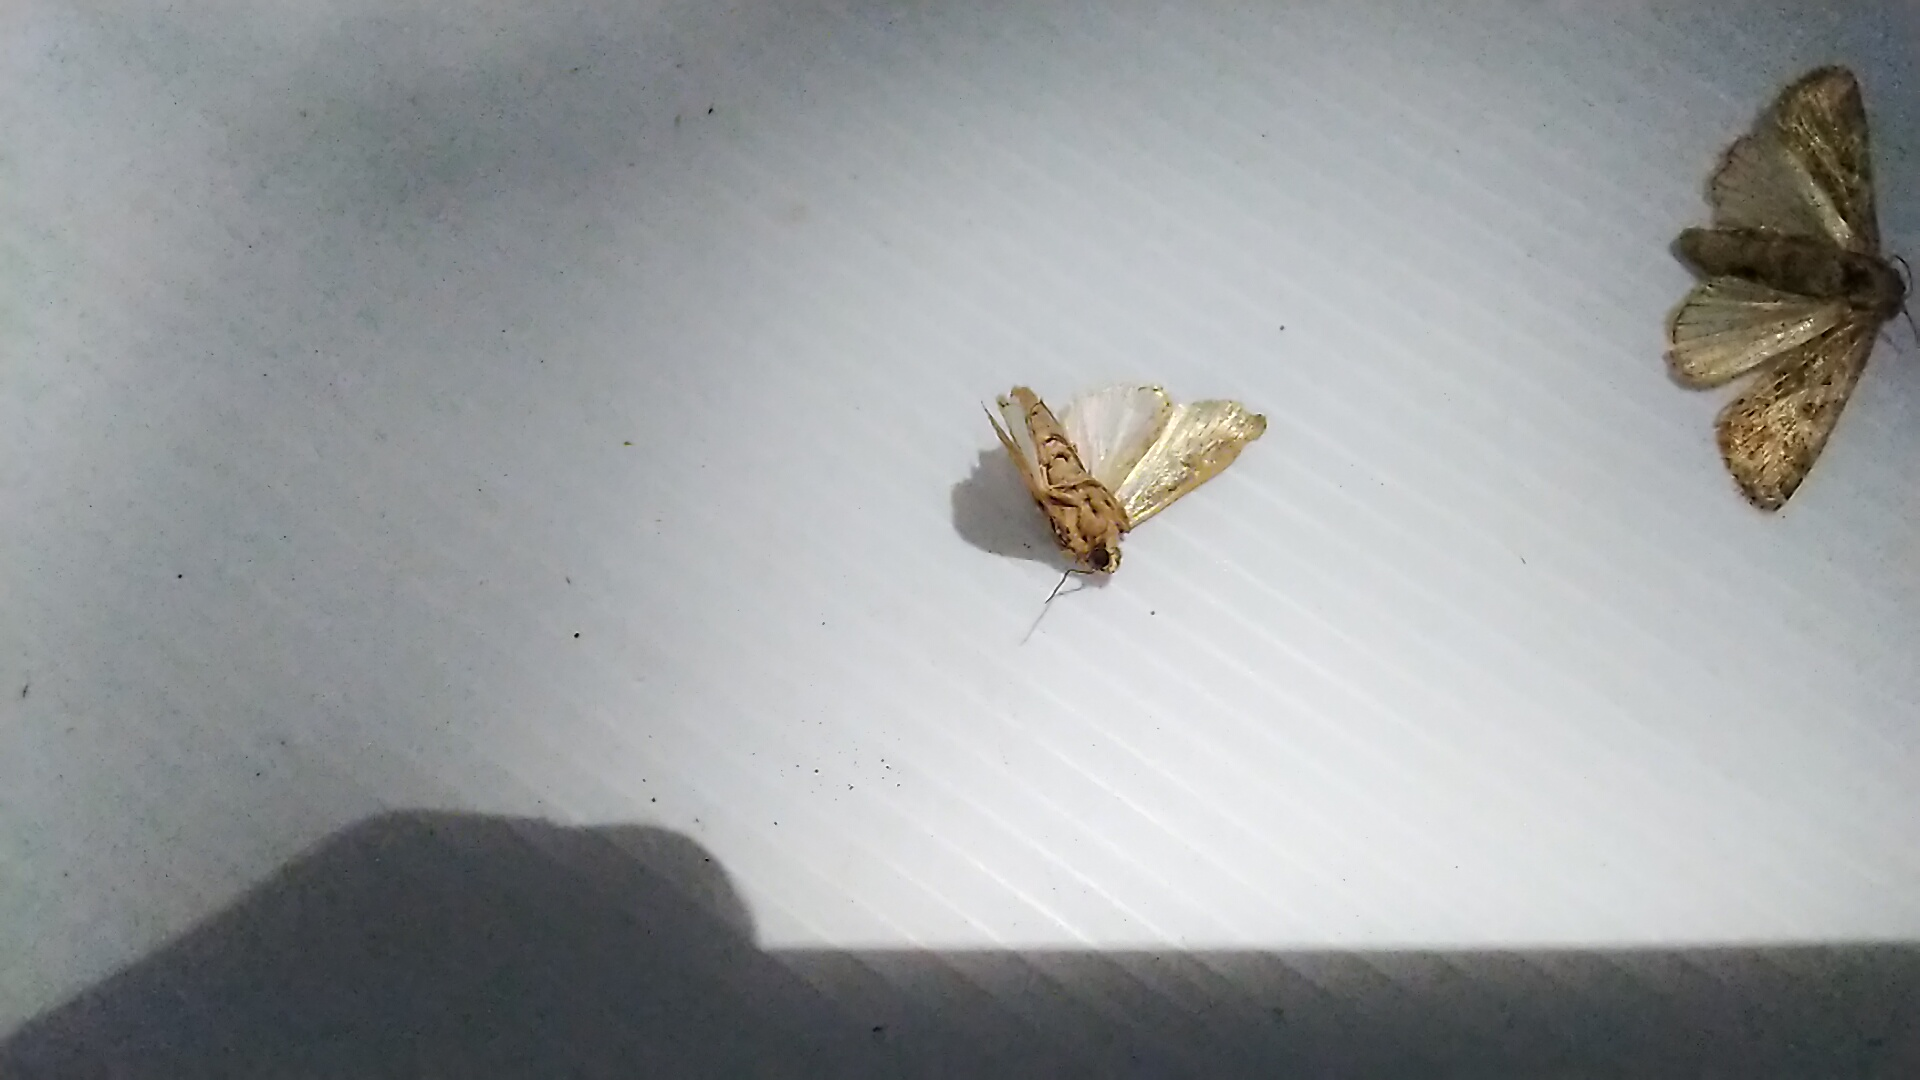INS-B: (1654, 55, 1920, 518), (971, 368, 1273, 613)
